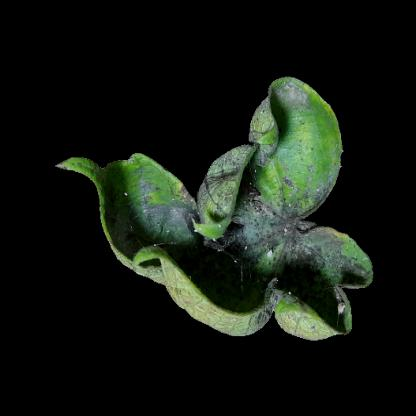curl_stage1: (292, 81, 334, 129), (304, 126, 342, 171), (134, 161, 164, 208), (261, 161, 291, 188)
curl_stage2: (166, 275, 202, 316), (280, 309, 323, 339), (211, 312, 255, 336)
sooty: (237, 193, 312, 283), (143, 202, 197, 256), (318, 239, 365, 287), (213, 155, 238, 206)
